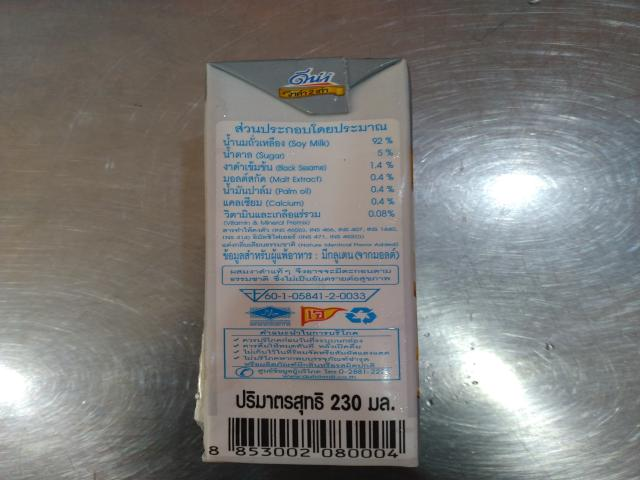drink_box: (172, 36, 486, 476)
